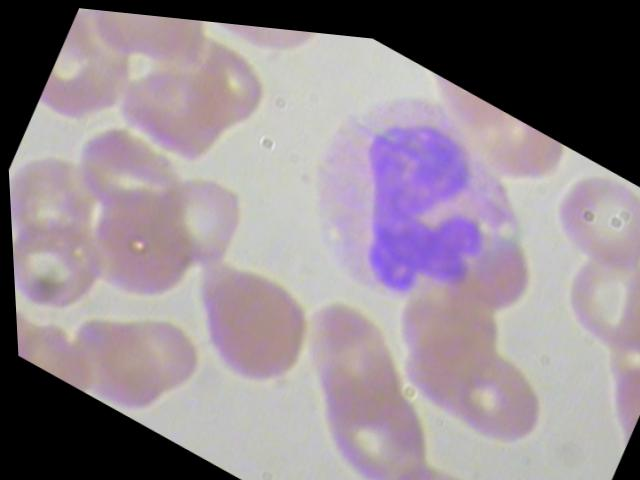Red Blood Cells: (169, 234, 331, 401), (46, 99, 186, 240), (424, 324, 555, 456), (48, 296, 177, 426), (133, 151, 259, 283), (534, 142, 639, 280), (543, 222, 639, 363), (8, 203, 111, 334), (363, 419, 520, 479), (184, 15, 330, 76), (463, 446, 595, 479)
White Blood Cells: (258, 38, 576, 359)
